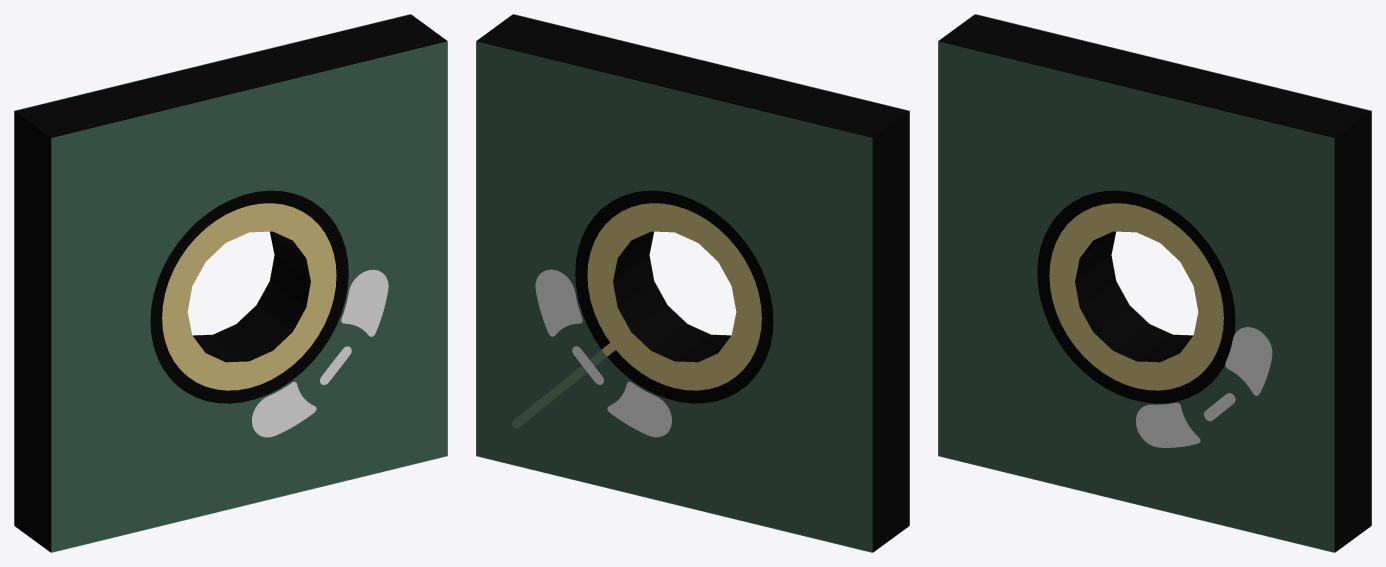
File: jacdac_ground_mh_0.1.glb
3 renders of one model, left to right at view 1: azimuth 30°, elevation 25°; view 2: azimuth 150°, elevation 25°; view 3: azimuth 330°, elevation 25°, orthographic.
Visible parts, largest first — view 1: SHAPE_1_IndexedFaceSet, SHAPE_6_IndexedFaceSet, SHAPE_2_IndexedFaceSet, SHAPE_5_IndexedFaceSet, SHAPE_8_IndexedFaceSet, SHAPE_4_IndexedFaceSet; view 2: SHAPE_1_IndexedFaceSet, SHAPE_4_IndexedFaceSet, SHAPE_2_IndexedFaceSet, SHAPE_3_IndexedFaceSet, SHAPE_7_IndexedFaceSet, SHAPE_6_IndexedFaceSet; view 3: SHAPE_1_IndexedFaceSet, SHAPE_6_IndexedFaceSet, SHAPE_2_IndexedFaceSet, SHAPE_5_IndexedFaceSet, SHAPE_8_IndexedFaceSet, SHAPE_4_IndexedFaceSet.
Boxes of the visible parts, x1,y1,x2,y2 form: SHAPE_1_IndexedFaceSet: [50, 41, 446, 552]; SHAPE_6_IndexedFaceSet: [51, 41, 447, 552]; SHAPE_2_IndexedFaceSet: [14, 14, 446, 551]; SHAPE_5_IndexedFaceSet: [162, 203, 336, 390]; SHAPE_8_IndexedFaceSet: [252, 269, 388, 437]; SHAPE_4_IndexedFaceSet: [14, 14, 410, 525]; SHAPE_1_IndexedFaceSet: [477, 41, 873, 552]; SHAPE_4_IndexedFaceSet: [476, 41, 872, 552]; SHAPE_2_IndexedFaceSet: [477, 14, 909, 551]; SHAPE_3_IndexedFaceSet: [513, 203, 761, 427]; SHAPE_7_IndexedFaceSet: [535, 269, 671, 437]; SHAPE_6_IndexedFaceSet: [513, 14, 909, 525]; SHAPE_1_IndexedFaceSet: [939, 41, 1335, 552]; SHAPE_6_IndexedFaceSet: [938, 41, 1334, 552]; SHAPE_2_IndexedFaceSet: [939, 14, 1371, 551]; SHAPE_5_IndexedFaceSet: [1049, 203, 1223, 390]; SHAPE_8_IndexedFaceSet: [1136, 327, 1272, 447]; SHAPE_4_IndexedFaceSet: [975, 14, 1371, 525].
Bounding box in the file's own units: 10 × 10 × 1.75.
